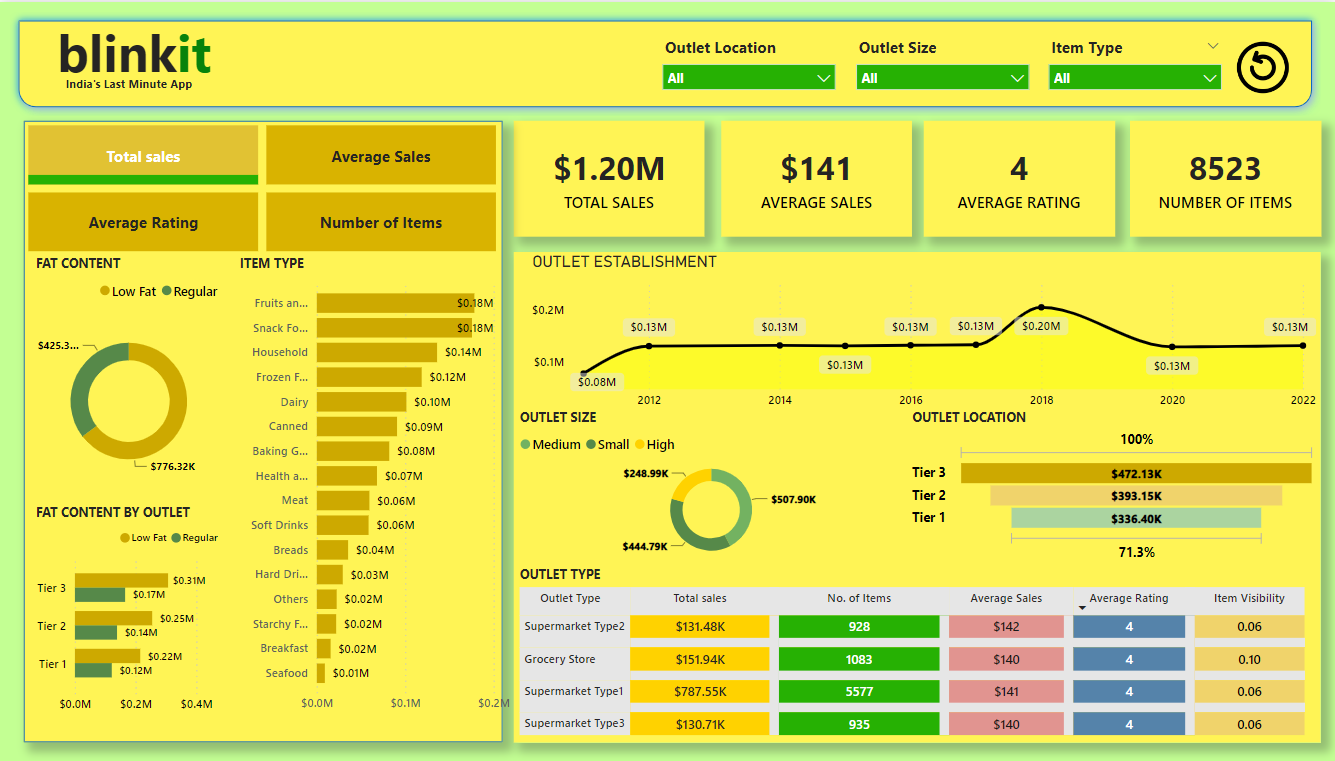

This screenshot's page, from the dashboard's own definition file:
{"tool":"powerbi","page":{"name":"Page 2","canvas":[1400,800],"ordinal":0},"visuals":[{"type":"shape","box":[11,11,1374.5,108.9],"z":0},{"type":"textbox","box":[55.2,11,190.9,94.7],"z":1000},{"type":"textbox","box":[25.2,71,220.9,34.7],"z":2000},{"type":"slicer","fields":{"Values":["BlinkIT Grocery Data.Outlet Location Type"]},"box":[684.9,31.6,202,69.4],"z":3000},{"type":"slicer","fields":{"Values":["BlinkIT Grocery Data.Outlet Size"]},"box":[886.8,31.6,202,69.4],"z":4000},{"type":"slicer","fields":{"Values":["BlinkIT Grocery Data.Item Type"]},"box":[1088.8,31.6,202,69.4],"z":5000},{"type":"image","box":[1290.8,31.6,66.3,74.2],"z":6000},{"type":"card","fields":{"Values":["Measure Table.Total sales"]},"box":[539.3,124.9,200.4,121.2],"z":7000},{"type":"card","fields":{"Values":["Measure Table.Average Sales"]},"box":[757,124.9,200.4,121.2],"z":8000},{"type":"card","fields":{"Values":["Measure Table.Average Rating"]},"box":[968.9,124.7,200.4,121.5],"z":9000},{"type":"card","fields":{"Values":["Measure Table.Number of Items"]},"box":[1185.1,124.7,200.4,121.5],"z":10000},{"type":"shape","box":[24.7,124.9,502.2,651.8],"z":11000},{"type":"shape","box":[539.3,262.2,846,514.5],"z":12000},{"type":"advancedSlicerVisual","title":"OUTLET ESTABLISHMENT","fields":{"Values":["METRICS.METRICS"]},"box":[25.2,124.7,501.8,142],"z":13000},{"type":"donutChart","title":"FAT CONTENT","fields":{"Y":["Measure Table.Total sales"],"Category":["BlinkIT Grocery Data.Item Fat Content"]},"box":[33.1,265.1,205.1,260.4],"z":14000},{"type":"clusteredBarChart","title":"FAT CONTENT BY OUTLET","fields":{"Y":["Measure Table.Total sales"],"Category":["BlinkIT Grocery Data.Outlet Location Type"],"Series":["BlinkIT Grocery Data.Item Fat Content"]},"box":[33.1,525.5,205.1,228.8],"z":15000},{"type":"barChart","title":"ITEM TYPE","fields":{"Y":["Measure Table.Total sales"],"Category":["BlinkIT Grocery Data.Item Type"]},"box":[246.2,265.1,293.5,489.2],"z":16000},{"type":"lineChart","title":"OUTLET ESTABLISHMENT","fields":{"Category":["BlinkIT Grocery Data.Outlet Establishment Year"],"Y":["Measure Table.Total sales"]},"box":[552.9,262.2,832.4,173.2],"z":17000},{"type":"donutChart","title":"OUTLET SIZE","fields":{"Y":["Measure Table.Total sales"],"Category":["BlinkIT Grocery Data.Outlet Size"]},"box":[539.7,426.1,411.9,165.7],"z":18000},{"type":"funnel","title":"OUTLET LOCATION","fields":{"Y":["Measure Table.Total sales"],"Category":["BlinkIT Grocery Data.Outlet Location Type"]},"box":[951.5,426.1,434,165.7],"z":19000},{"type":"pivotTable","title":"OUTLET TYPE","fields":{"Rows":["BlinkIT Grocery Data.Outlet Type"],"Values":["Measure Table.Total sales","Measure Table.Number of Items","Measure Table.Average Sales","Measure Table.Average Rating","Avg(BlinkIT Grocery Data.Item Visibility)"]},"box":[539.7,591.8,836.4,184.6],"z":20000}]}

Visuals, with their boxes in screenshot pixels (x1, y1, x2, y2), scaled from the page's 1400x800 canvas onto the 1335x761 screenshot:
shape: rect(10, 10, 1321, 114)
textbox: rect(53, 10, 235, 101)
textbox: rect(24, 68, 235, 101)
slicer - BlinkIT Grocery Data.Outlet Location Type: rect(653, 30, 846, 96)
slicer - BlinkIT Grocery Data.Outlet Size: rect(846, 30, 1038, 96)
slicer - BlinkIT Grocery Data.Item Type: rect(1038, 30, 1231, 96)
image: rect(1231, 30, 1294, 101)
card - Measure Table.Total sales: rect(514, 119, 705, 234)
card - Measure Table.Average Sales: rect(722, 119, 913, 234)
card - Measure Table.Average Rating: rect(924, 119, 1115, 234)
card - Measure Table.Number of Items: rect(1130, 119, 1321, 234)
shape: rect(24, 119, 502, 739)
shape: rect(514, 249, 1321, 739)
"OUTLET ESTABLISHMENT" advancedSlicerVisual: rect(24, 119, 503, 254)
"FAT CONTENT" donutChart: rect(32, 252, 227, 500)
"FAT CONTENT BY OUTLET" clusteredBarChart: rect(32, 500, 227, 718)
"ITEM TYPE" barChart: rect(235, 252, 515, 718)
"OUTLET ESTABLISHMENT" lineChart: rect(527, 249, 1321, 414)
"OUTLET SIZE" donutChart: rect(515, 405, 907, 563)
"OUTLET LOCATION" funnel: rect(907, 405, 1321, 563)
"OUTLET TYPE" pivotTable: rect(515, 563, 1312, 739)
